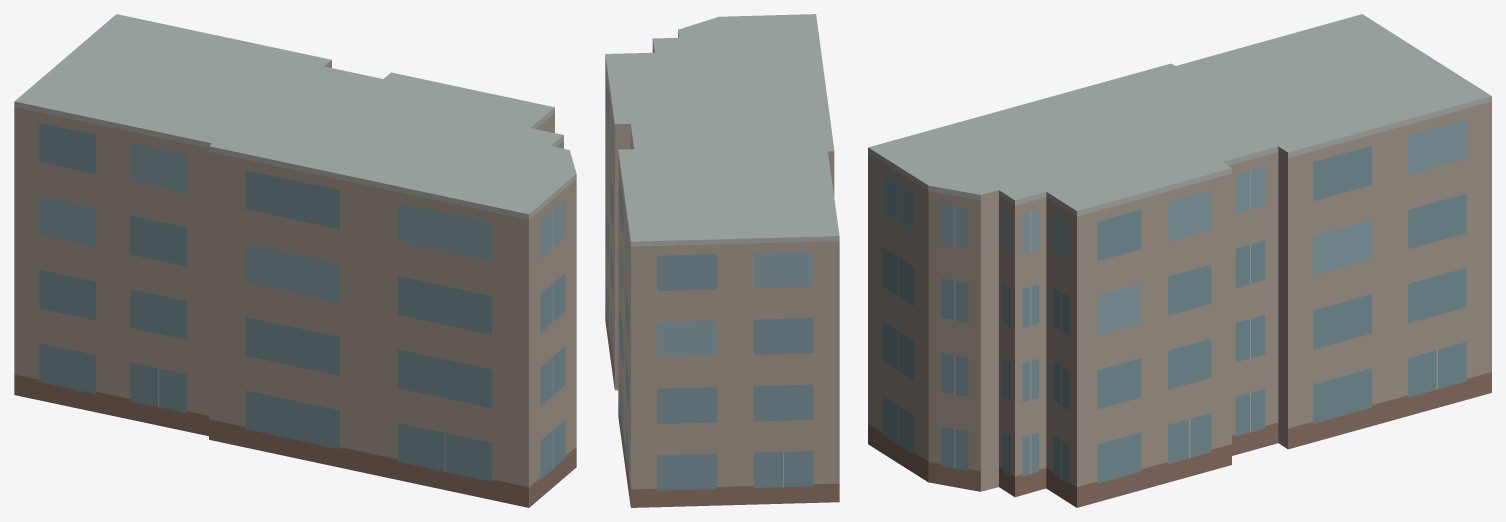
Rendered from survey-upis-32637142.glb.
3 renders of one model, left to right at view 1: azimuth 30°, elevation 25°; view 2: azimuth 150°, elevation 25°; view 3: azimuth 270°, elevation 25°, orthographic. The views are drawn at different scales.
Parts seen in each view (by area): view 1: survey-upis-32637142.tmp; view 2: survey-upis-32637142.tmp; view 3: survey-upis-32637142.tmp.
Boxes of the visible parts, x1,y1,x2,y2 form: survey-upis-32637142.tmp: (14, 14, 576, 507); survey-upis-32637142.tmp: (605, 14, 839, 507); survey-upis-32637142.tmp: (868, 14, 1491, 507).
Size of the model in its own units: 18.52 by 13 by 24.77.
